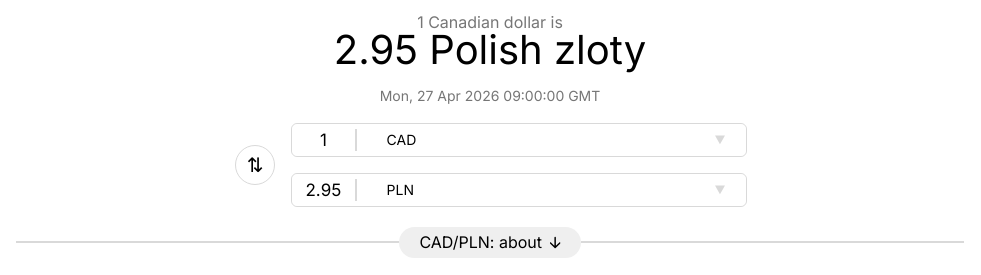
CurrencyConverter › recalculates result when currency pair changes
Expected: the 2nd field holds "2.95", [292, 174, 355, 206]
Select "AUD" in the 2nd dropdown at (551, 190), box [357, 174, 746, 206]
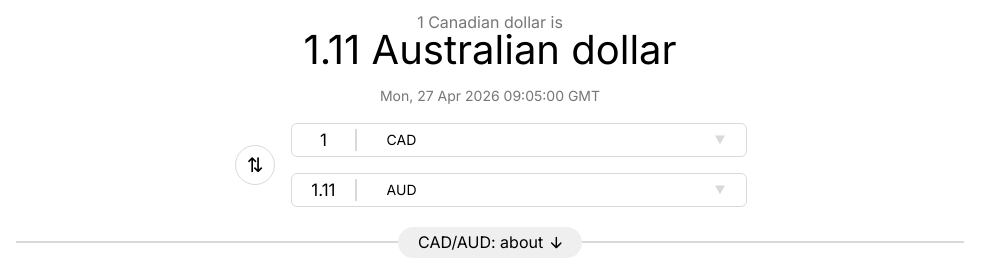
Result: the 2nd field holds "1.11" at [292, 174, 355, 206]
